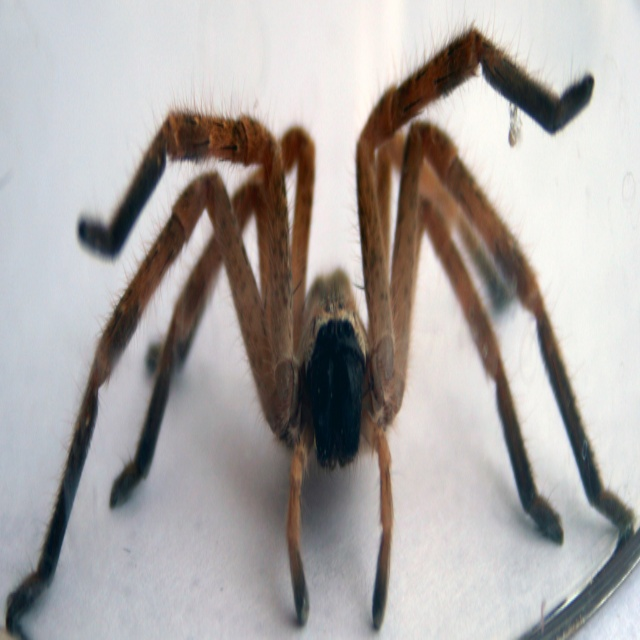Spider: (5, 6, 637, 633)
